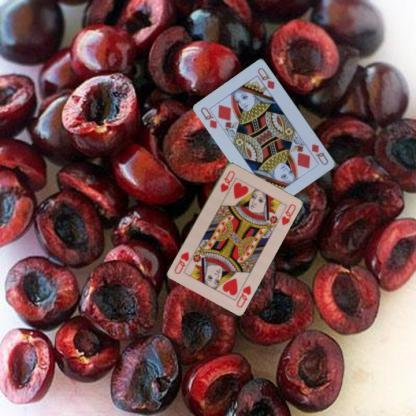Qd: (198, 105, 224, 130), (309, 142, 330, 166)
Qh: (234, 282, 252, 308), (218, 168, 236, 193)
